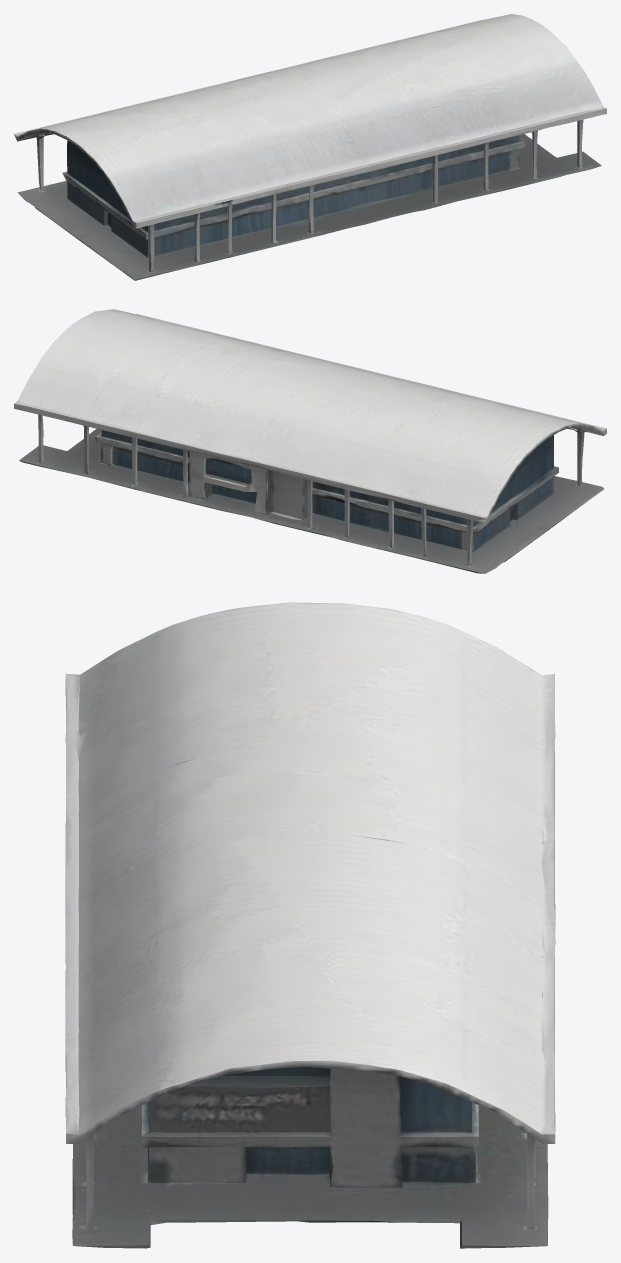
Rendered from terminal_rodoviario.glb.
3 views of the same model, one above another, from view 1: azimuth 30°, elevation 25°; view 2: azimuth 150°, elevation 25°; view 3: azimuth 270°, elevation 25° (orthographic). The views are drawn at different scales.
Visible parts, largest first — view 1: tripo_node_e055ba57-615b-4e77-8b80-2fb04252795f; view 2: tripo_node_e055ba57-615b-4e77-8b80-2fb04252795f; view 3: tripo_node_e055ba57-615b-4e77-8b80-2fb04252795f.
Part boxes in pixels (x1=…): tripo_node_e055ba57-615b-4e77-8b80-2fb04252795f: x1=14, y1=14, x2=606, y2=280; tripo_node_e055ba57-615b-4e77-8b80-2fb04252795f: x1=14, y1=309, x2=606, y2=573; tripo_node_e055ba57-615b-4e77-8b80-2fb04252795f: x1=65, y1=602, x2=555, y2=1248.
Size of the model in its own units: 48.95 by 9.49 by 22.05.
1 material, 1 textured.
